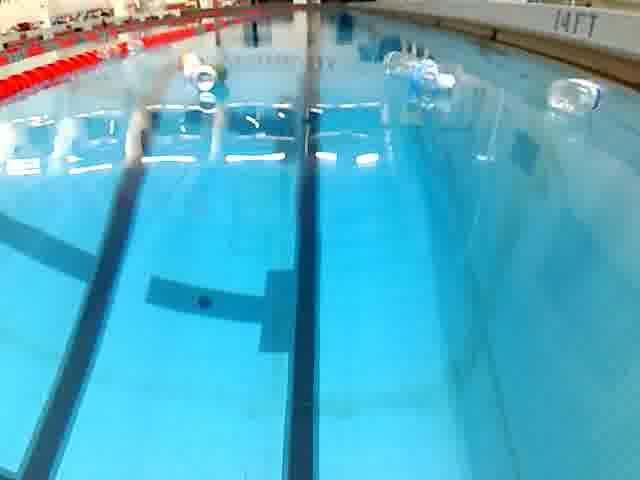Bottle: (378, 47, 463, 97), (538, 74, 616, 122)
Can: (189, 51, 223, 102)
